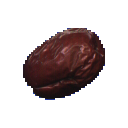ng: (16, 20, 113, 107)
